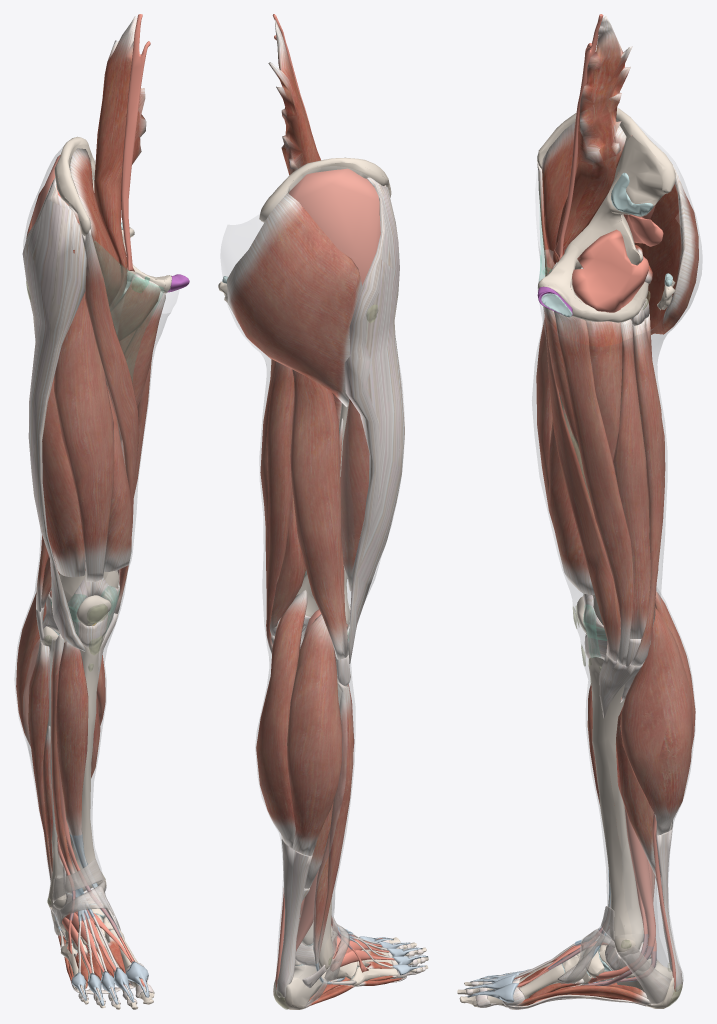
File: lowerlimb_opt1.fbx
The picture shows the model from 3 angles, left to right: view 1: azimuth 30°, elevation 25°; view 2: azimuth 150°, elevation 25°; view 3: azimuth 270°, elevation 25°; orthographic projection. The views are drawn at different scales.
Parts seen in each view (by area): view 1: Fascia lata.r.002, Crural fascia.r.002, Iliotibial tract.r.002, Rectus femoris.r.002, Psoas major.r.002, Tibialis anterior muscle.r.002, Sartorius muscle.r.002, Vastus lateralis muscle.r.002, Femoral triangle.r.002, Fibularis longus muscle.r.002, Tibia.r.002, Iliacus muscle.r.002 (+25 smaller); view 2: Fascia lata.r.002, Crural fascia.r.002, Gluteus maximus muscle.r.002, Iliotibial tract.r.002, Long head of biceps femoris.r.002, Lateral head of gastrocnemius.r.002, Medial head of gastrocnemius.r.002, Gluteus medius muscle.r.002, Gluteal aponeurosis.r.002, Semitendinosus muscle.r.002, Vastus lateralis muscle.r.002, Semimembranosus muscle.r.002 (+14 smaller); view 3: Fascia lata.r.002, Crural fascia.r.002, Medial head of gastrocnemius.r.002, Gracilis muscle.r.002, Hip bone.r.002, Psoas major.r.002, Tibia.r.002, Semimembranosus muscle.r.002, Sartorius muscle.r.002, Gluteus maximus muscle.r.002, Semitendinosus muscle.r.002, Obturator internus.r.002 (+22 smaller).
Part boxes in pixels (left/top/right/bottom): Fascia lata.r.002: left=23, top=196, right=179, bottom=632; Crural fascia.r.002: left=14, top=584, right=119, bottom=923; Iliotibial tract.r.002: left=22, top=177, right=86, bottom=651; Rectus femoris.r.002: left=54, top=293, right=114, bottom=581; Psoas major.r.002: left=94, top=16, right=146, bottom=311; Tibialis anterior muscle.r.002: left=56, top=641, right=120, bottom=930; Sartorius muscle.r.002: left=82, top=229, right=138, bottom=613; Vastus lateralis muscle.r.002: left=42, top=377, right=85, bottom=577; Femoral triangle.r.002: left=94, top=241, right=164, bottom=379; Fibularis longus muscle.r.002: left=28, top=639, right=66, bottom=939; Tibia.r.002: left=56, top=631, right=106, bottom=893; Iliacus muscle.r.002: left=69, top=148, right=121, bottom=306; Fascia lata.r.002: left=221, top=187, right=404, bottom=641; Crural fascia.r.002: left=255, top=614, right=355, bottom=1004; Gluteus maximus muscle.r.002: left=227, top=193, right=362, bottom=406; Iliotibial tract.r.002: left=344, top=177, right=404, bottom=663; Long head of biceps femoris.r.002: left=290, top=369, right=348, bottom=659; Lateral head of gastrocnemius.r.002: left=287, top=614, right=342, bottom=855; Medial head of gastrocnemius.r.002: left=256, top=590, right=307, bottom=847; Gluteus medius muscle.r.002: left=288, top=168, right=380, bottom=285; Gluteal aponeurosis.r.002: left=290, top=166, right=380, bottom=279; Semitendinosus muscle.r.002: left=266, top=361, right=294, bottom=653; Vastus lateralis muscle.r.002: left=340, top=399, right=369, bottom=591; Semimembranosus muscle.r.002: left=260, top=360, right=305, bottom=635; Fascia lata.r.002: left=532, top=146, right=702, bottom=654; Crural fascia.r.002: left=580, top=588, right=695, bottom=991; Medial head of gastrocnemius.r.002: left=620, top=607, right=692, bottom=835; Gracilis muscle.r.002: left=554, top=311, right=633, bottom=665; Hip bone.r.002: left=537, top=108, right=675, bottom=322; Psoas major.r.002: left=554, top=16, right=632, bottom=261; Tibia.r.002: left=588, top=657, right=648, bottom=956; Semimembranosus muscle.r.002: left=613, top=319, right=658, bottom=638; Sartorius muscle.r.002: left=537, top=163, right=620, bottom=661; Gluteus maximus muscle.r.002: left=631, top=161, right=698, bottom=334; Semitendinosus muscle.r.002: left=630, top=320, right=664, bottom=665; Obturator internus.r.002: left=572, top=229, right=648, bottom=312.
Size of the model in its own units: 12.98 by 83.86 by 18.27.
